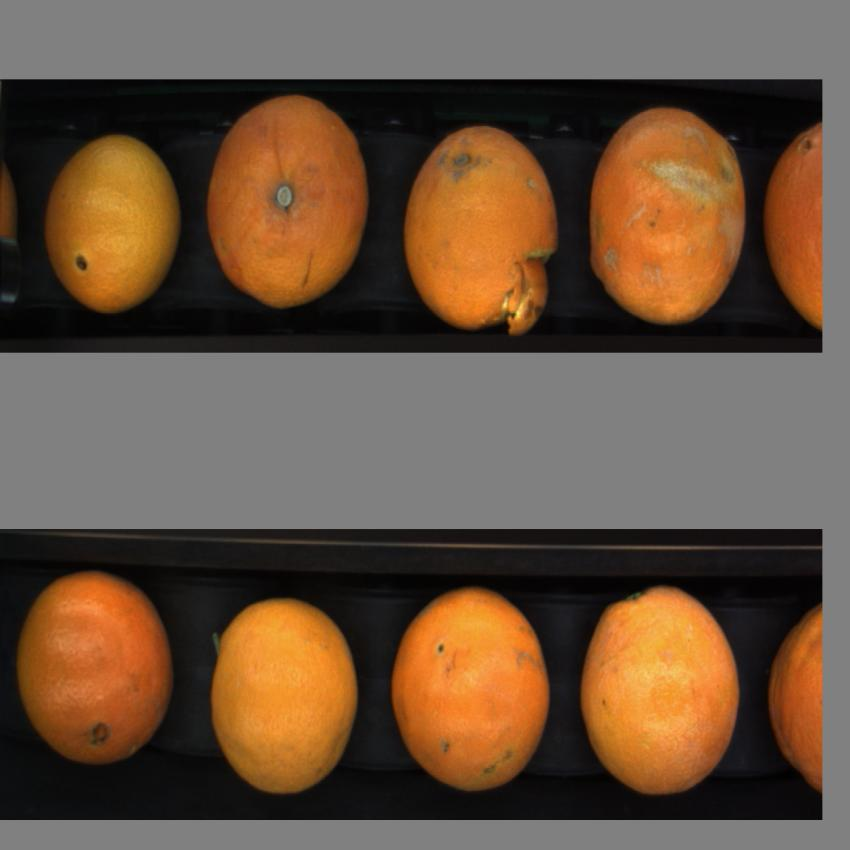Buen estado: (584, 103, 751, 332), (205, 93, 377, 315), (582, 574, 745, 800), (386, 583, 556, 795), (199, 587, 363, 801), (15, 569, 180, 767), (40, 121, 184, 331), (760, 110, 822, 350), (765, 586, 824, 807)
Mal estado: (396, 112, 559, 345)
